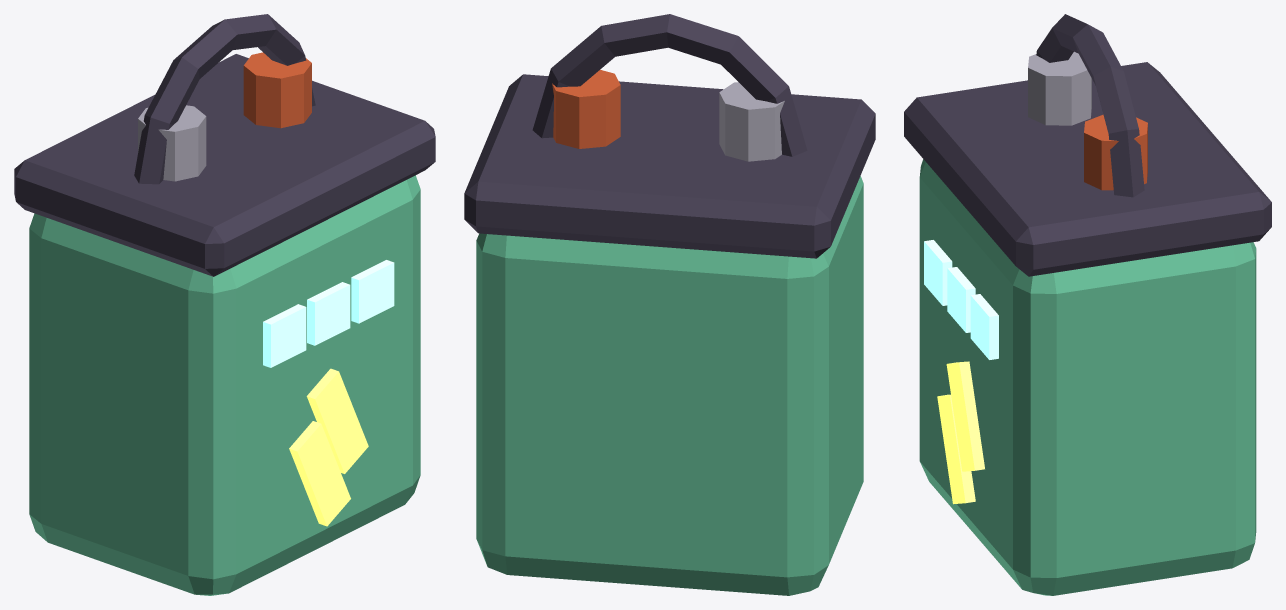
File: MOONSHIFT_ITM_Battery_Portable.glb
3 renders of one model, left to right at view 1: azimuth 30°, elevation 25°; view 2: azimuth 150°, elevation 25°; view 3: azimuth 270°, elevation 25°, orthographic. The views are drawn at different scales.
Parts seen in each view (by area): view 1: Battery_Body, Battery_Cap, Battery_Handle, Battery_Terminal1, Battery_Bolt2, Battery_Bolt1, Battery_Terminal0, Battery_Charge0, Battery_Charge2, Battery_Charge1; view 2: Battery_Body, Battery_Cap, Battery_Handle, Battery_Terminal1, Battery_Terminal0; view 3: Battery_Body, Battery_Cap, Battery_Handle, Battery_Terminal0, Battery_Bolt1, Battery_Terminal1, Battery_Bolt2, Battery_Charge2, Battery_Charge1, Battery_Charge0.
Boxes of the visible parts, x1=… form: Battery_Body: x1=29, y1=175, x2=420, y2=595; Battery_Cap: x1=14, y1=54, x2=435, y2=276; Battery_Handle: x1=134, y1=14, x2=315, y2=184; Battery_Terminal1: x1=243, y1=52, x2=311, y2=128; Battery_Bolt2: x1=289, y1=421, x2=350, y2=526; Battery_Bolt1: x1=306, y1=368, x2=368, y2=473; Battery_Terminal0: x1=138, y1=105, x2=206, y2=181; Battery_Charge0: x1=263, y1=304, x2=306, y2=367; Battery_Charge2: x1=351, y1=260, x2=394, y2=323; Battery_Charge1: x1=307, y1=282, x2=350, y2=345; Battery_Body: x1=476, y1=176, x2=863, y2=595; Battery_Cap: x1=464, y1=74, x2=875, y2=258; Battery_Handle: x1=532, y1=14, x2=807, y2=156; Battery_Terminal1: x1=552, y1=69, x2=620, y2=148; Battery_Terminal0: x1=719, y1=82, x2=784, y2=161; Battery_Body: x1=919, y1=159, x2=1256, y2=595; Battery_Cap: x1=904, y1=62, x2=1271, y2=276; Battery_Handle: x1=1036, y1=14, x2=1144, y2=197; Battery_Terminal0: x1=1028, y1=51, x2=1091, y2=125; Battery_Bolt1: x1=946, y1=361, x2=984, y2=471; Battery_Terminal1: x1=1084, y1=114, x2=1147, y2=190; Battery_Bolt2: x1=937, y1=394, x2=975, y2=504; Battery_Charge2: x1=970, y1=294, x2=998, y2=359; Battery_Charge1: x1=947, y1=267, x2=975, y2=332; Battery_Charge0: x1=924, y1=240, x2=952, y2=305.
Size of the model in its own units: 0.6118 by 0.815 by 0.54.
